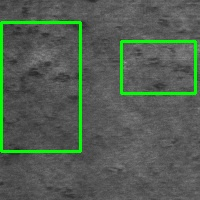rolled-in_scale: (1, 22, 80, 151), (121, 41, 195, 93)
